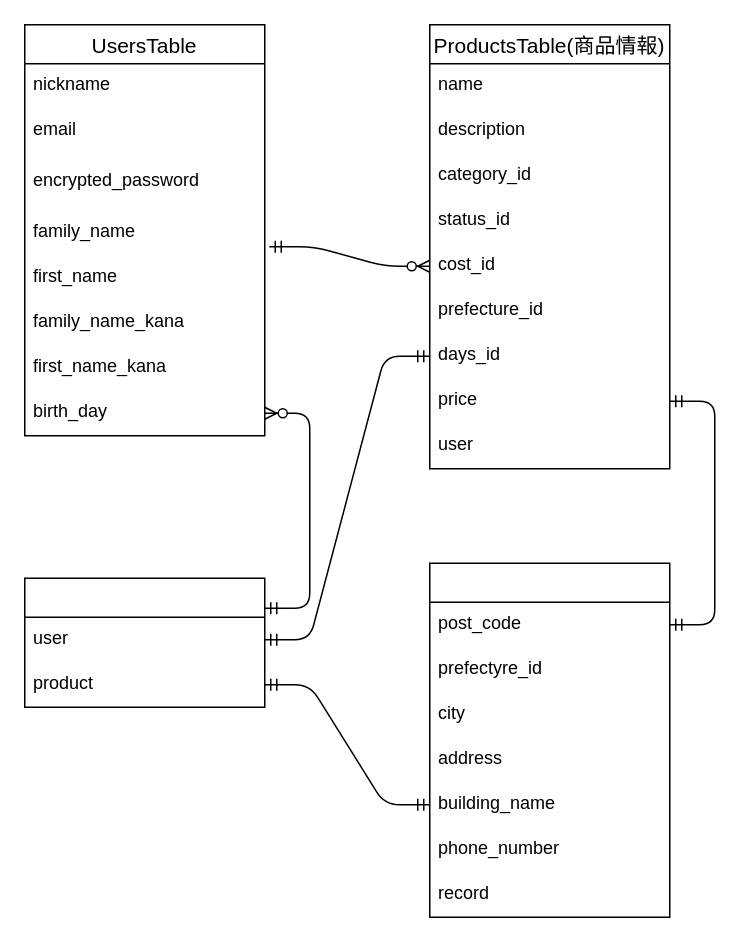
Some shapes in this 740 by 942 pixel diagram are drawn without their labels. The box of each missing label's shape, as (x1, y1, x2, y2) in pixels:
RecordsTable(購入記録): (23, 577, 265, 707)
SendsTable(発送先情報): (428, 562, 670, 917)
